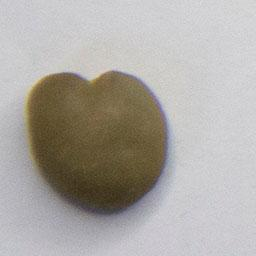premium: (23, 65, 175, 216)
